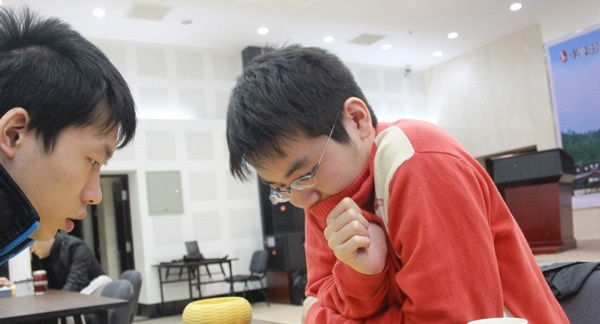face: (1, 102, 119, 247), (243, 132, 364, 208)
